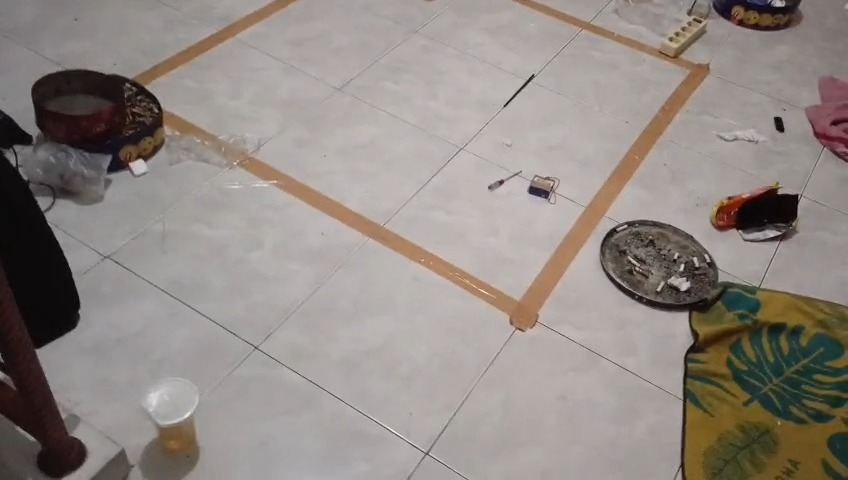floor marking: (164, 0, 708, 330), (137, 0, 295, 83)
